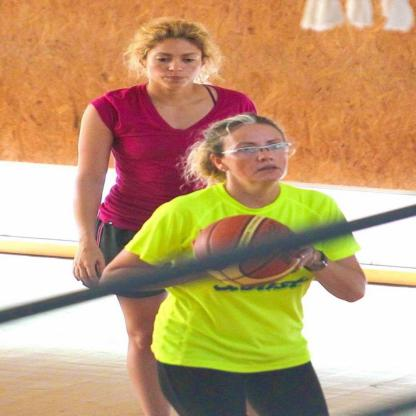face: (222, 121, 288, 183), (146, 39, 206, 89)
